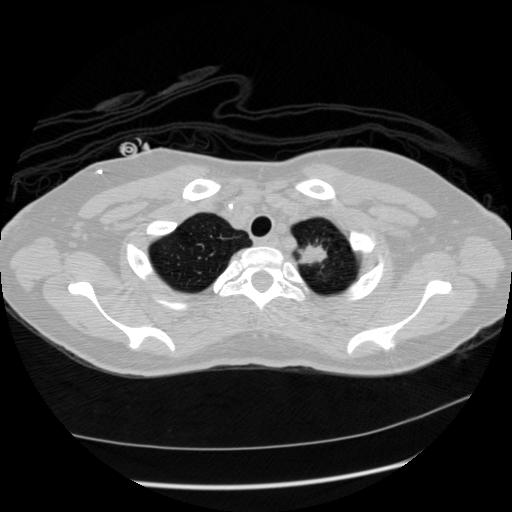nodule: (300, 240, 330, 270)
